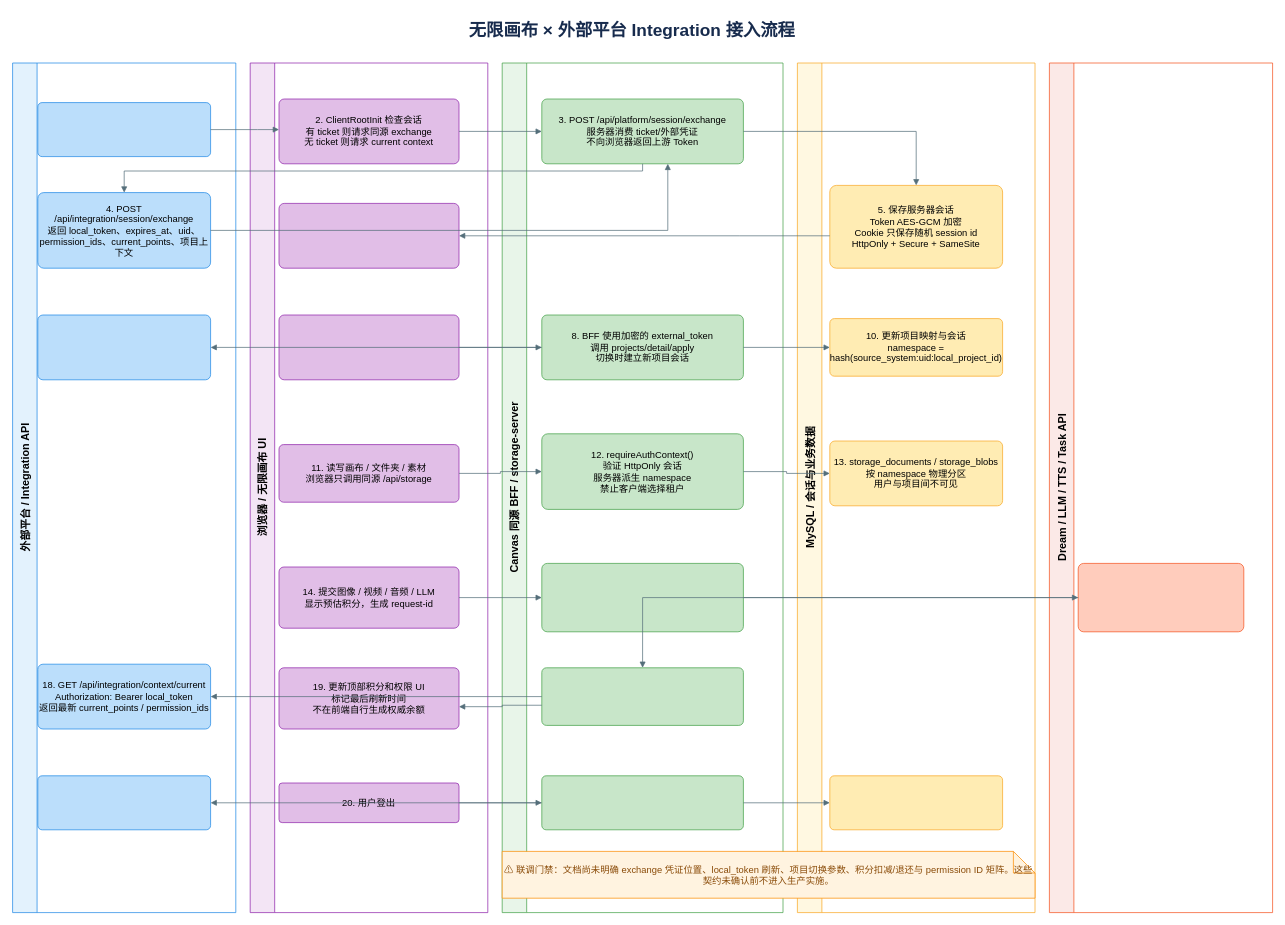
Some shapes in this 1285 by 925 pixel diagram are drawn without their labels. Here are the shapes that lost their labels. From the top down, the centre of each, then its label:
(x=124, y=129): 1. 用户从现有平台进入画布 推荐携带一次性 integration_ticket
(x=368, y=235): 6. UI 进入 authenticated 状态 显示用户、积分、平台项目 不保存 external/local token
(x=124, y=347): 9. External Projects API X-External-Token 返回 project_id / points / permission[]
(x=368, y=347): 7. 打开平台项目选择器 列表 / 查看 / 申请 首版不与 CanvasProject 混用
(x=642, y=597): 15. AI BFF 从会话注入 local_token 超时后先查询任务 不盲目重提，防止重复扣分
(x=1160, y=597): 16. 上游创建任务并扣分 返回 task_id / status / result 失败与退分以平台规则为准
(x=642, y=696): 17. 任务提交/完成/积分不足后 请求 context/current 刷新权威积分
(x=124, y=802): 22. POST /api/integration/external/auth/logout X-External-Token
(x=642, y=802): 21. 注销外部令牌 删除本地会话并清 Cookie
(x=916, y=802): 23. 删除 integration_sessions 业务数据保留，下次登录可恢复
